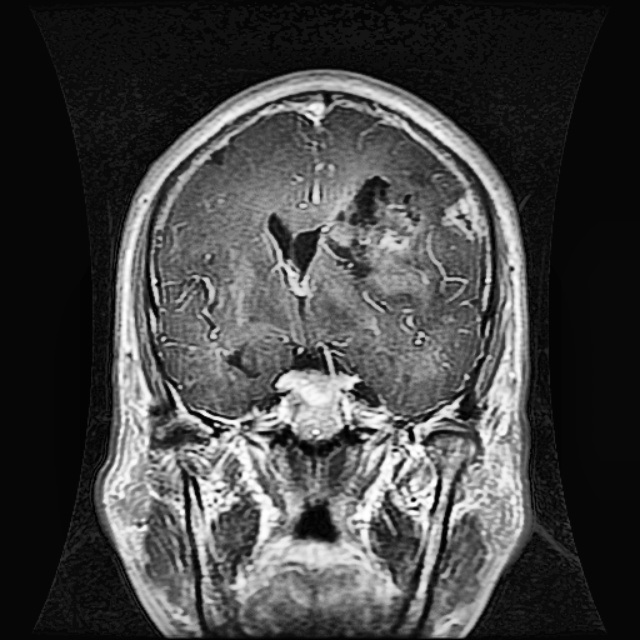Glioma: (325, 173, 424, 258)
